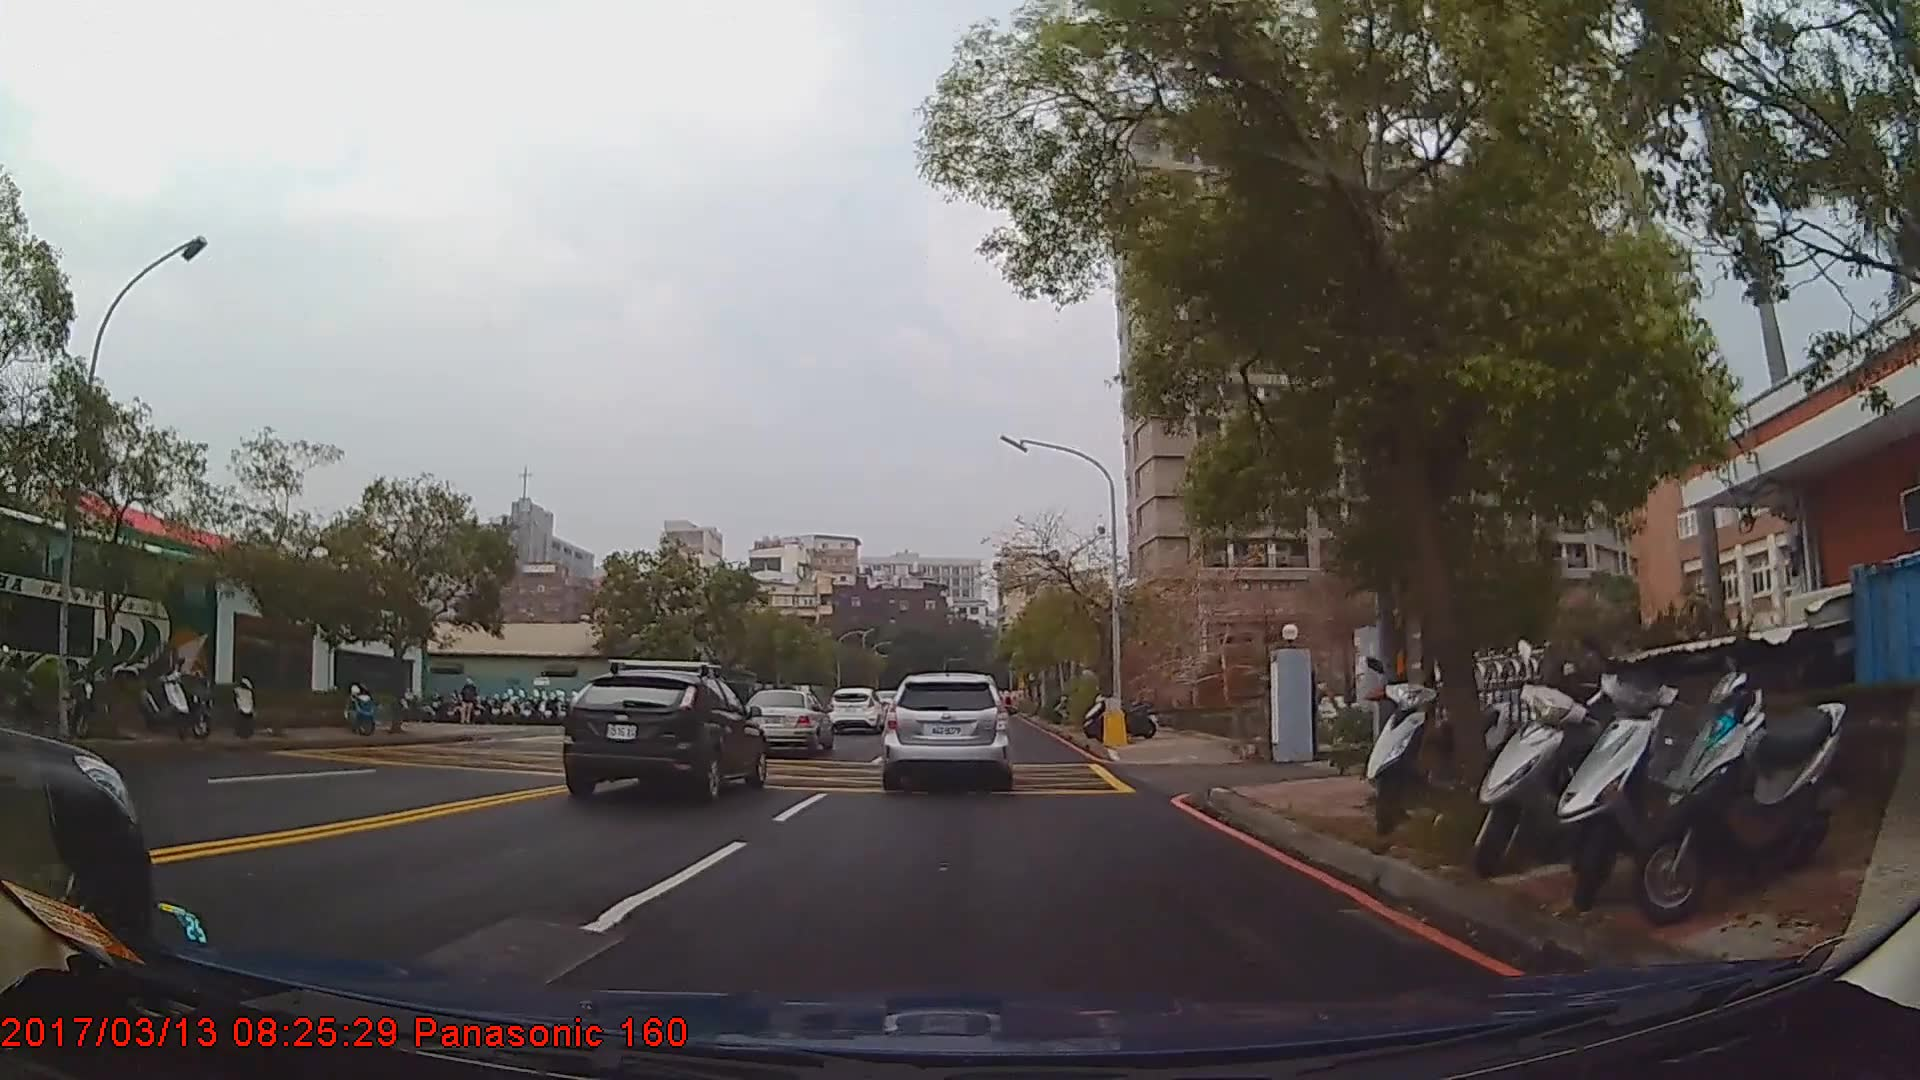pedestrian: (460, 680, 480, 726)
vehicle: (0, 502, 218, 731), (560, 668, 765, 805), (885, 671, 1010, 786), (740, 688, 830, 755), (826, 686, 885, 735)
